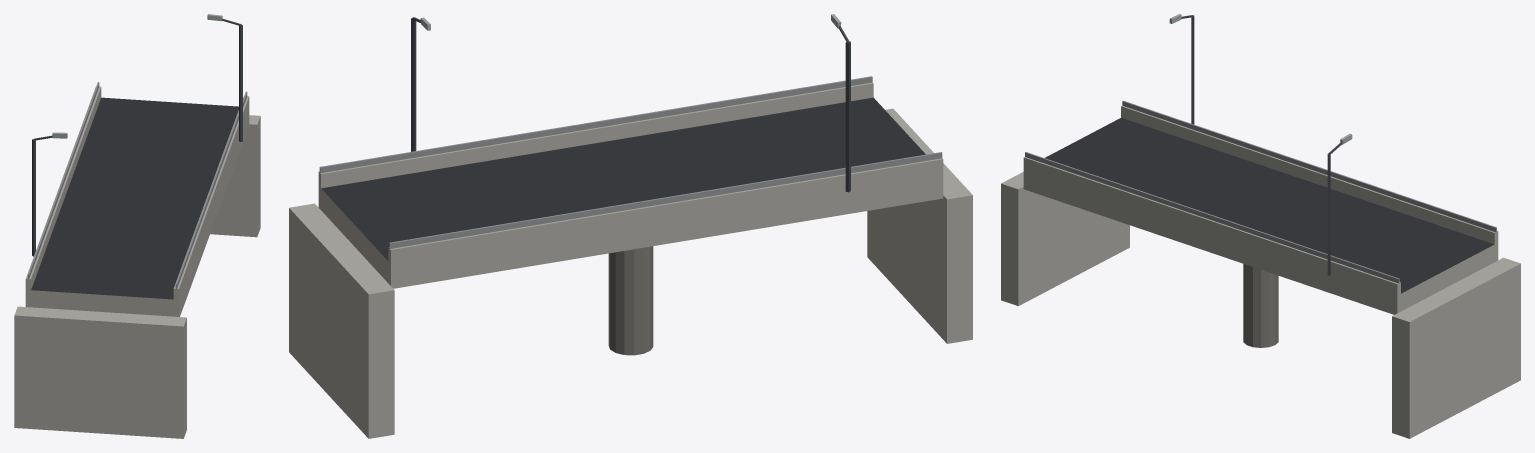
Rendered from br_n258_grierson.gltf.
3 views of the same model, side by side, from view 1: azimuth 30°, elevation 25°; view 2: azimuth 150°, elevation 25°; view 3: azimuth 270°, elevation 25° (orthographic). The views are drawn at different scales.
Parts seen in each view (by area): view 1: br_n258_grierson; view 2: br_n258_grierson; view 3: br_n258_grierson.
Boxes of the visible parts, x1,y1,x2,y2 form: br_n258_grierson: (14,14,260,438); br_n258_grierson: (289,14,972,438); br_n258_grierson: (1001,14,1520,438).
Size of the model in its own units: 33.32 by 20.79 by 37.11.
